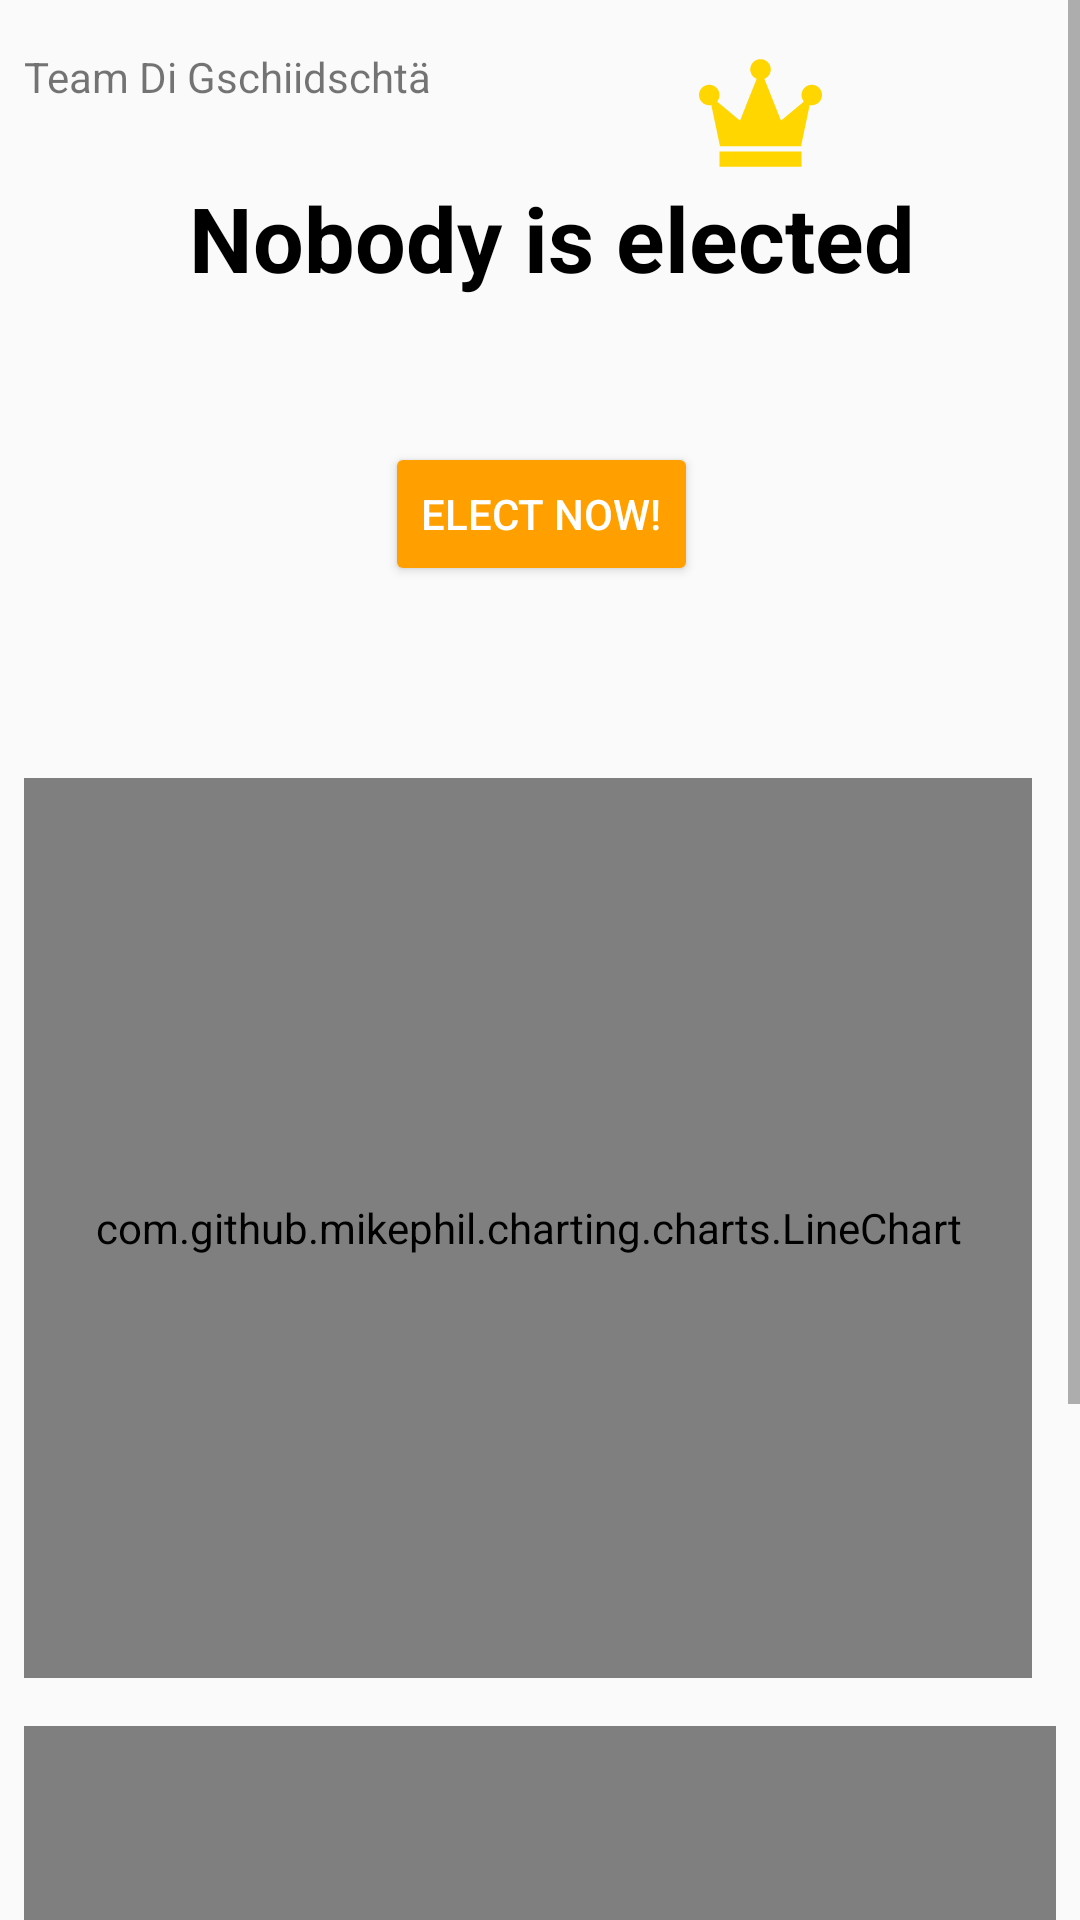

Icon click points for this 1080 × 1920 phone screenshot, format point (x, y):
crown: point (760, 113)
